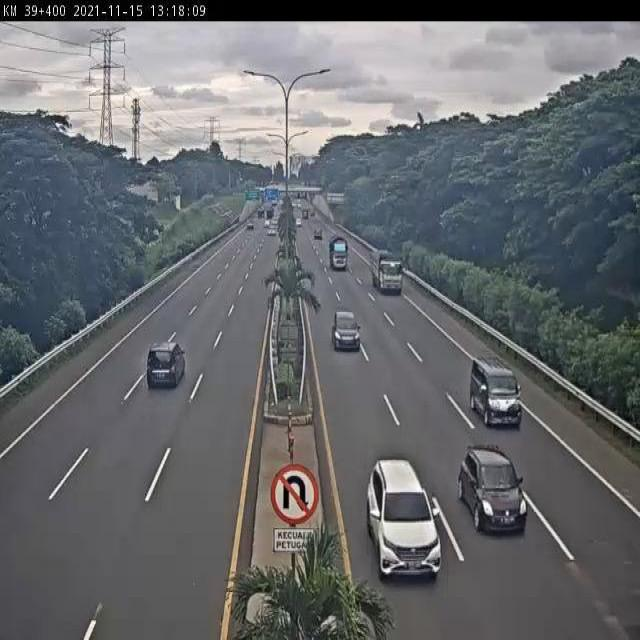big truck: (369, 248, 404, 296)
car: (366, 455, 443, 581), (455, 445, 527, 536), (468, 356, 523, 431), (146, 340, 188, 391), (331, 308, 361, 352)
